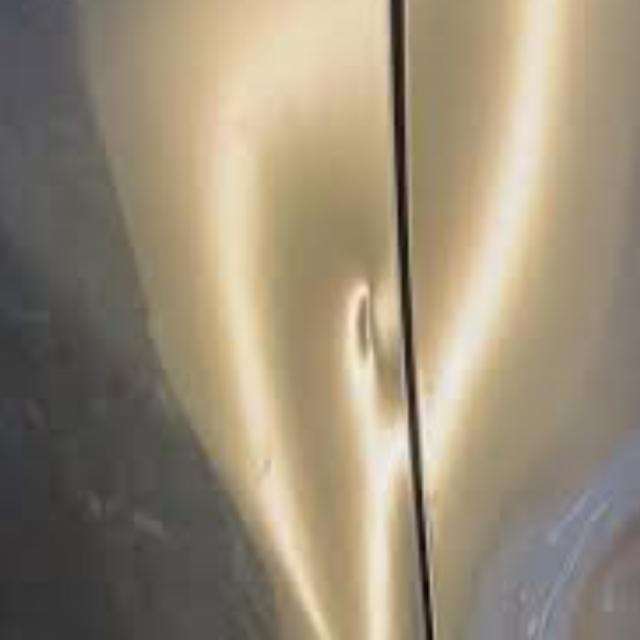dents: (336, 256, 416, 429)
